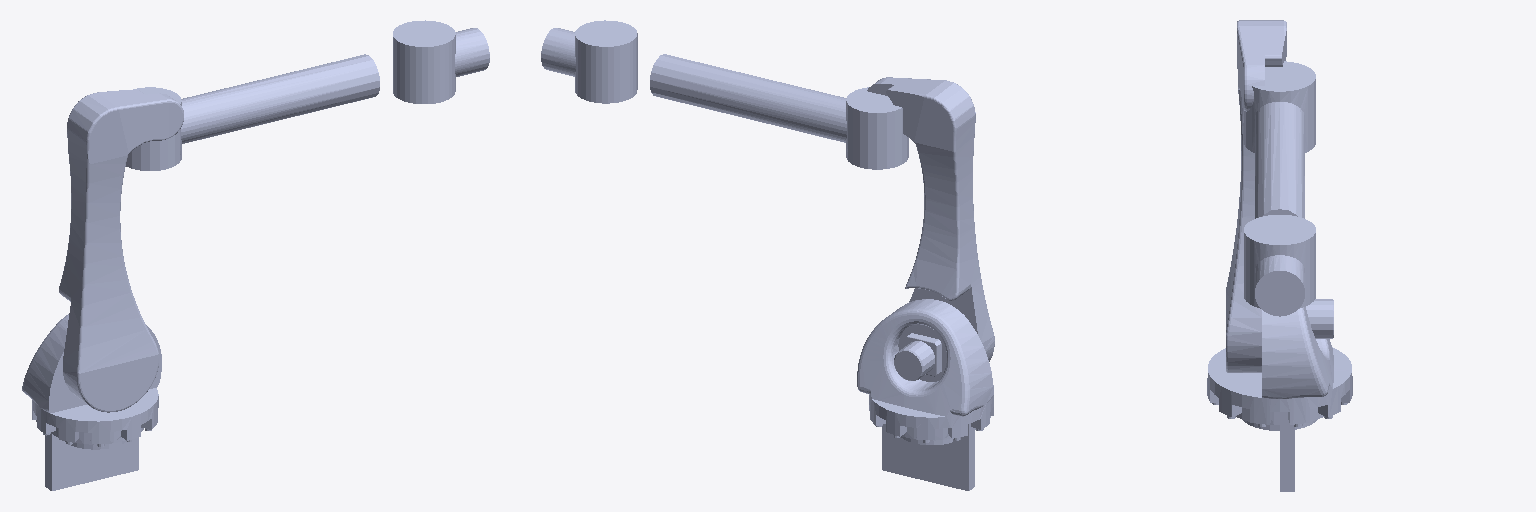
The robot description file, URDF, robot "Draw_armV6":
<?xml version="1.0" encoding="utf-8"?>
<!-- This URDF was automatically created by SolidWorks to URDF Exporter! Originally created by [author] ([email redacted]) 
     Commit Version: 1.6.0-4-g7f85cfe  Build Version: 1.6.7995.38578
     For more information, please see http://wiki.ros.org/sw_urdf_exporter -->
<robot
  name="Draw_armV6">
  <link
    name="Plate">
    <inertial>
      <origin
        xyz="0 0 0.005"
        rpy="0 0 0" />
      <mass
        value="0.08" />
      <inertia
        ixx="6.7333E-05"
        ixy="0"
        ixz="0"
        iyy="4.3333E-05"
        iyz="0"
        izz="0.00010933" />
    </inertial>
    <visual>
      <origin
        xyz="0 0 0"
        rpy="1.57075 0 0" />
      <geometry>
        <mesh
          filename="Plate.STL" />
      </geometry>
      <material
        name="">
        <color
          rgba="0.79216 0.81961 0.93333 1" />
      </material>
    </visual>
    <collision>
      <origin
        xyz="0 0 0"
        rpy="0 0 0" />
      <geometry>
        <mesh
          filename="Plate.STL" />
      </geometry>
    </collision>
  </link>

  <link
    name="body1">
    <inertial>
      <origin
        xyz="6.3163E-12 -0.0052654 0.031225"
        rpy="-1.57075 0 0" />
      <mass
        value="0.2864" />
      <inertia
        ixx="0.00023048"
        ixy="1.2713E-11"
        ixz="1.2624E-11"
        iyy="0.00022932"
        iyz="4.0542E-05"
        izz="0.00021662" />
    </inertial>
    <visual>
      <origin
        xyz="0 0 0"
        rpy="0 0 0" />
      <geometry>
        <mesh
          filename="body1.STL" />
      </geometry>
      <material
        name="">
        <color
          rgba="0.79216 0.81961 0.93333 1" />
      </material>
    </visual>
    <collision>
      <origin
        xyz="0 0 0"
        rpy="0 0 0" />
      <geometry>
        <mesh
          filename="body1.STL" />
      </geometry>
    </collision>
  </link>
  <joint
    name="jnt1"
    type="revolute">
    <origin
      xyz="0 -0.01 0"
      rpy="0 0 0" />
    <parent
      link="Plate" />
    <child
      link="body1" />
    <axis
      xyz="0 0 1" />
    <limit
      lower="-3.14"
      upper="3.14"
      effort="0"
      velocity="0" />
  </joint>
  <link
    name="body2">
    <inertial>
      <origin
        xyz="0.004964 0.00061652 0.11242"
        rpy="0 0 0" />
      <mass
        value="0.22002" />
      <inertia
        ixx="0.00083034"
        ixy="6.7301E-07"
        ixz="-7.6532E-05"
        iyy="0.00086126"
        iyz="1.4783E-05"
        izz="6.4517E-05" />
    </inertial>
    <visual>
      <origin
        xyz="0 0 0"
        rpy="0 0 0" />
      <geometry>
        <mesh
          filename="body2.STL" />
      </geometry>
      <material
        name="">
        <color
          rgba="0.79216 0.81961 0.93333 1" />
      </material>
    </visual>
    <collision>
      <origin
        xyz="0 0 0"
        rpy="0 0 0" />
      <geometry>
        <mesh
          filename="body2.STL" />
      </geometry>
    </collision>
  </link>
  <joint
    name="jnt2"
    type="revolute">
    <origin
      xyz="0 0 0.0625"
      rpy="0 0 0" />
    <parent
      link="body1" />
    <child
      link="body2" />
    <axis
      xyz="0 1 0" />
    <limit
      lower="-1.5708"
      upper="1.5708"
      effort="0"
      velocity="0" />
  </joint>
  <link
    name="body3">
    <inertial>
      <origin
        xyz="0.10503 1.4434E-09 8.2906E-08"
        rpy="0 0 0" />
      <mass
        value="0.28429" />
      <inertia
        ixx="5.0421E-05"
        ixy="1.4094E-10"
        ixz="5.0094E-10"
        iyy="0.0019051"
        iyz="-3.8747E-10"
        izz="0.0019053" />
    </inertial>
    <visual>
      <origin
        xyz="0 0 0"
        rpy="0 0 0" />
      <geometry>
        <mesh
          filename="body3.STL" />
      </geometry>
      <material
        name="">
        <color
          rgba="0.79216 0.81961 0.93333 1" />
      </material>
    </visual>
    <collision>
      <origin
        xyz="0 0 0"
        rpy="0 0 0" />
      <geometry>
        <mesh
          filename="body3.STL" />
      </geometry>
    </collision>
  </link>
  <joint
    name="jnt3"
    type="revolute">
    <origin
      xyz="0.05 0 0.1825"
      rpy="0 0 0" />
    <parent
      link="body2" />
    <child
      link="body3" />
    <axis
      xyz="0 1 0" />
    <limit
      lower="-2.094"
      upper="2.094"
      effort="0"
      velocity="0" />
  </joint>
  <link
    name="body4">
    <inertial>
      <origin
        xyz="0.013224 4.9278E-08 -0.0027725"
        rpy="0 0 0" />
      <mass
        value="0.097782" />
      <inertia
        ixx="3.5709E-05"
        ixy="-1.2624E-10"
        ixz="9.9834E-06"
        iyy="6.8188E-05"
        iyz="2.8504E-11"
        izz="5.3746E-05" />
    </inertial>
    <visual>
      <origin
        xyz="0 0 0"
        rpy="0 0 0" />
      <geometry>
        <mesh
          filename="body4.STL" />
      </geometry>
      <material
        name="">
        <color
          rgba="0.79216 0.81961 0.93333 1" />
      </material>
    </visual>
    <collision>
      <origin
        xyz="0 0 0"
        rpy="0 0 0" />
      <geometry>
        <mesh
          filename="body4.STL" />
      </geometry>
    </collision>
  </link>
  <joint
    name="jnt4"
    type="revolute">
    <origin
      xyz="0.25 0 0"
      rpy="0 0 0" />
    <parent
      link="body3" />
    <child
      link="body4" />
    <axis
      xyz="0 1 0" />
    <limit
      lower="-3.927"
      upper="0.785"
      effort="0"
      velocity="0" />
  </joint>
</robot>

--- What the picture shows (computed from the rendered views, not written in the file) ---
The picture shows the robot from 3 angles, left to right: view 1: azimuth 30°, elevation 25°; view 2: azimuth 150°, elevation 25°; view 3: azimuth 270°, elevation 25°; orthographic projection.
Robot: Draw_armV6 — 5 links, 4 joints (4 revolute); root link Plate; default pose: all joints at 0.
Visible links, largest first — view 1: body2, body3, body1, body4, Plate; view 2: body1, body2, body3, body4, Plate; view 3: body1, body3, body2, body4, Plate.
Link boxes in pixels (<box>): body2: <box>59,90,183,412</box>; body3: <box>126,54,379,170</box>; body1: <box>22,314,161,449</box>; body4: <box>393,20,489,103</box>; Plate: <box>45,432,138,490</box>; body1: <box>857,299,993,444</box>; body2: <box>867,77,994,361</box>; body3: <box>650,54,908,169</box>; body4: <box>541,20,637,103</box>; Plate: <box>882,372,974,490</box>; body1: <box>1207,299,1352,430</box>; body3: <box>1244,61,1315,218</box>; body2: <box>1226,20,1286,372</box>; body4: <box>1244,215,1315,316</box>; Plate: <box>1280,412,1294,491</box>.
Bounding box of the posed robot: 0.4001 × 0.1 × 0.3366 m (x, y, z).
Meshes: 5 distinct files referenced, 5 mesh visuals loaded (5 binary STL).